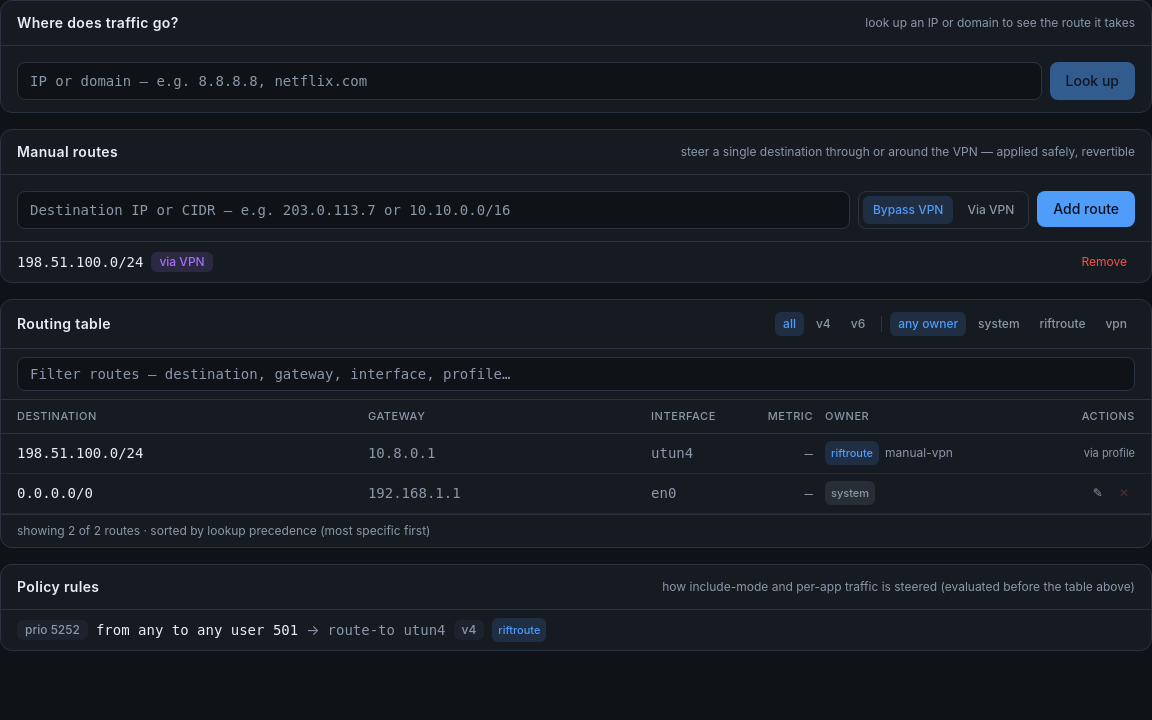
RoutesView › refuses duplicate manual destinations with a clear error
The image size is (1152, 720).
Check: the button with aria-label "Remove manual route 198.51.100.0/24" is shown, box [1074,250,1135,274]
Type "198.51.100.0/24" into the field named "Manual route destination". click: {"x": 433, "y": 210}
box: [17,191,850,229]
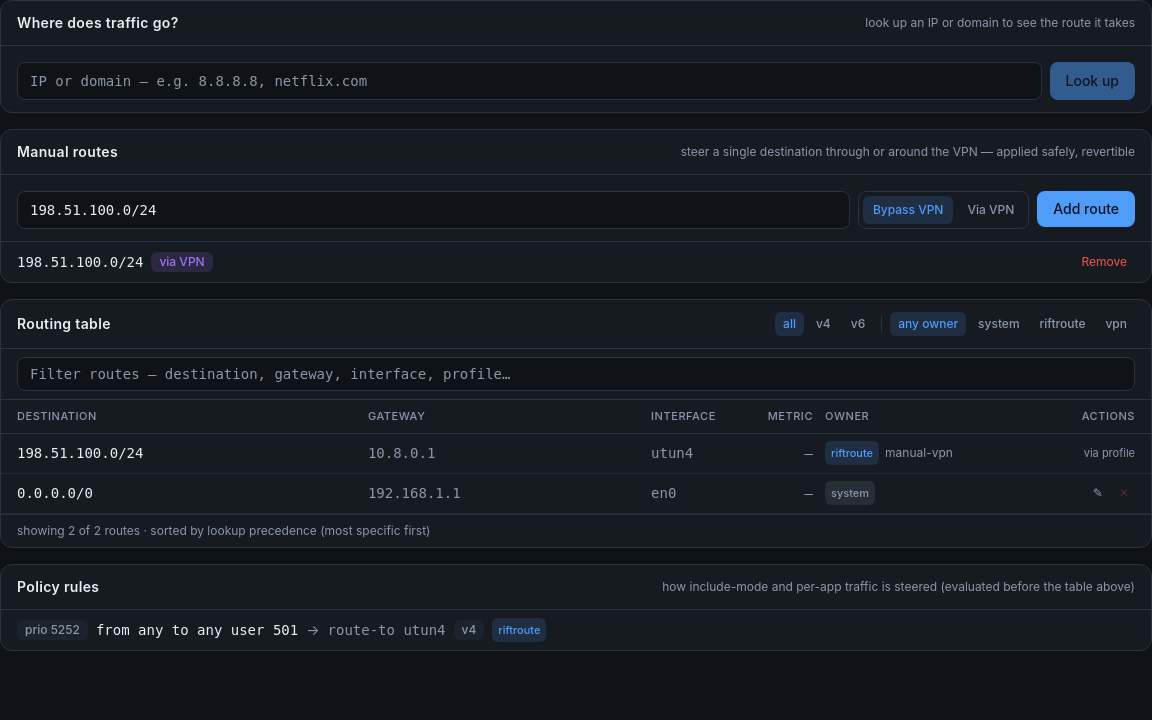
Click the button "Add route". click: {"x": 1086, "y": 209}
box: [1037,191,1135,227]
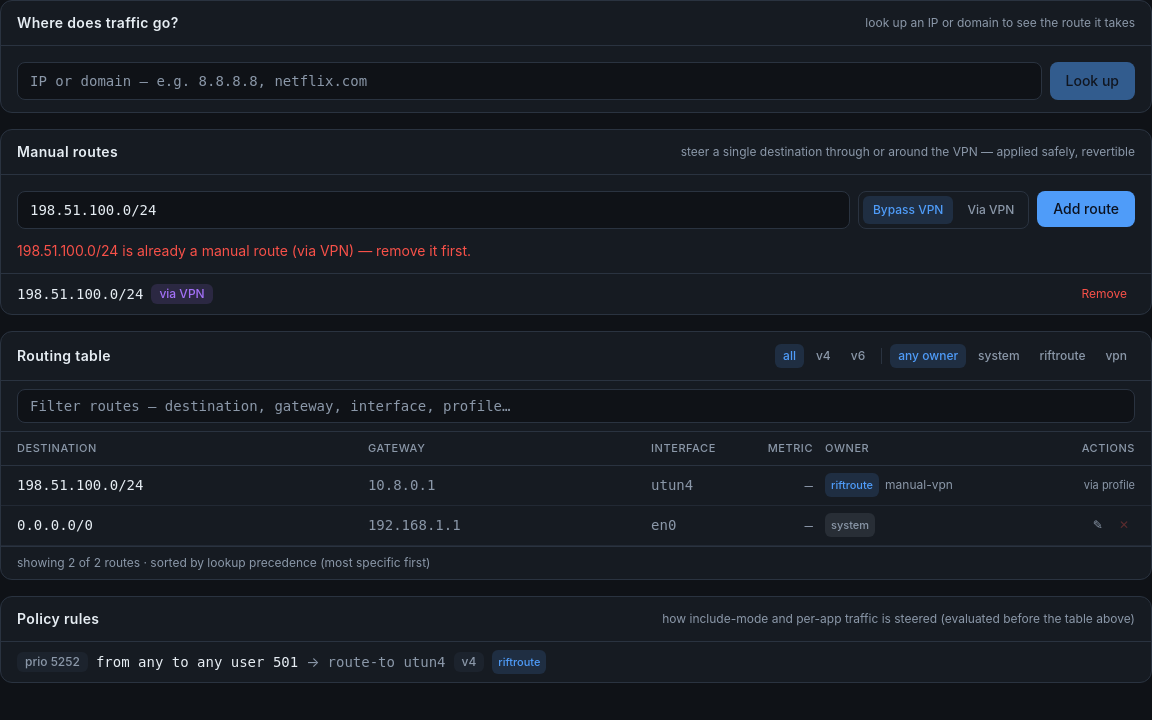
Check: the text "already a manual route" is shown, box [17,242,471,259]
